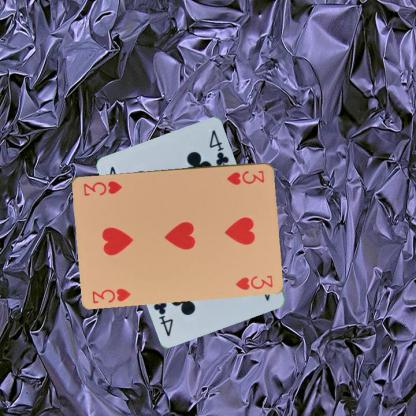3h: (224, 168, 266, 186), (90, 286, 132, 304)
